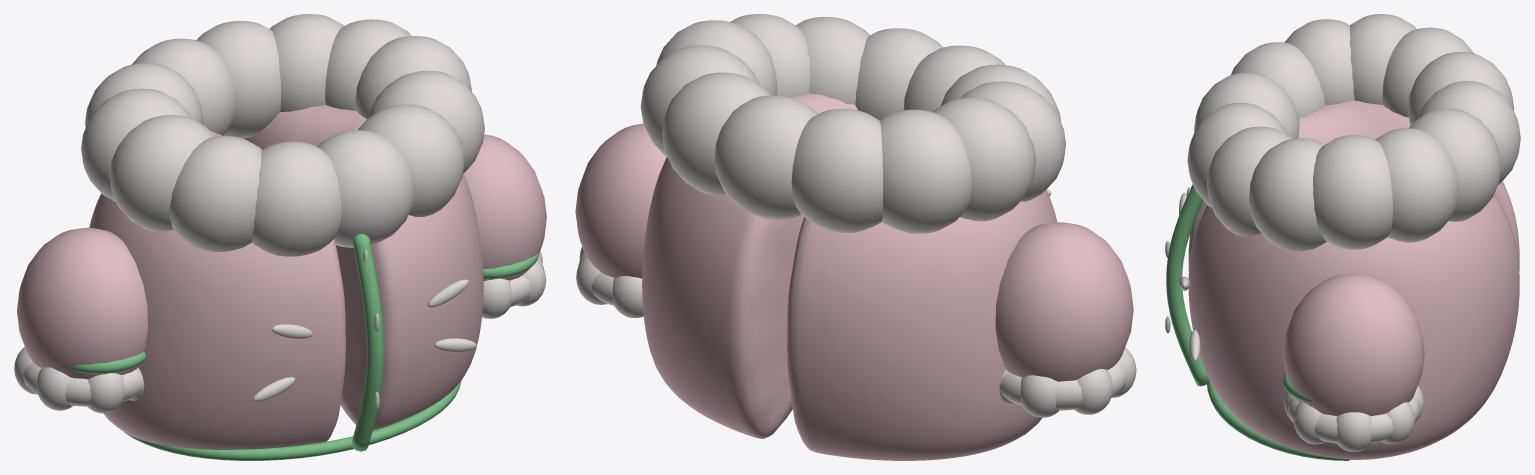
File: fluffvest.glb
3 views of the same model, side by side, from view 1: azimuth 30°, elevation 25°; view 2: azimuth 150°, elevation 25°; view 3: azimuth 270°, elevation 25° (orthographic). The views are drawn at different scales.
Parts seen in each view (by area): view 1: _sphere.020, _fluffy_left-panel, _fluffy_right-panel, _sphere.003, _slime_goo_binding.002, _slime_goo_binding.003, _sphere.013, _slime_goo_binding, _slime_goo_binding.001; view 2: _sphere.020, _fluffy_left-panel, _fluffy_right-panel, _sphere.003, _sphere.013; view 3: _fluffy_right-panel, _sphere.020, _sphere.013, _fluffy_left-panel, _slime_goo_binding.002, _slime_goo_binding.003.
Part boxes in pixels (x1=…): _sphere.020: x1=81, y1=14, x2=484, y2=256; _fluffy_left-panel: x1=17, y1=131, x2=345, y2=449; _fluffy_right-panel: x1=243, y1=105, x2=546, y2=430; _sphere.003: x1=14, y1=347, x2=144, y2=413; _slime_goo_binding.002: x1=351, y1=233, x2=384, y2=451; _slime_goo_binding.003: x1=124, y1=380, x2=461, y2=460; _sphere.013: x1=482, y1=251, x2=546, y2=318; _slime_goo_binding: x1=69, y1=352, x2=145, y2=373; _slime_goo_binding.001: x1=483, y1=253, x2=539, y2=279; _sphere.020: x1=640, y1=14, x2=1065, y2=233; _fluffy_left-panel: x1=787, y1=189, x2=1133, y2=460; _fluffy_right-panel: x1=575, y1=93, x2=858, y2=438; _sphere.003: x1=999, y1=348, x2=1136, y2=417; _sphere.013: x1=576, y1=247, x2=643, y2=317; _fluffy_right-panel: x1=1179, y1=194, x2=1519, y2=459; _sphere.020: x1=1187, y1=14, x2=1520, y2=251; _sphere.013: x1=1284, y1=386, x2=1424, y2=452; _fluffy_left-panel: x1=1179, y1=100, x2=1519, y2=270; _slime_goo_binding.002: x1=1165, y1=184, x2=1209, y2=386; _slime_goo_binding.003: x1=1207, y1=380, x2=1349, y2=460.
Size of the model in its own units: 0.821 by 0.5022 by 0.5138.
